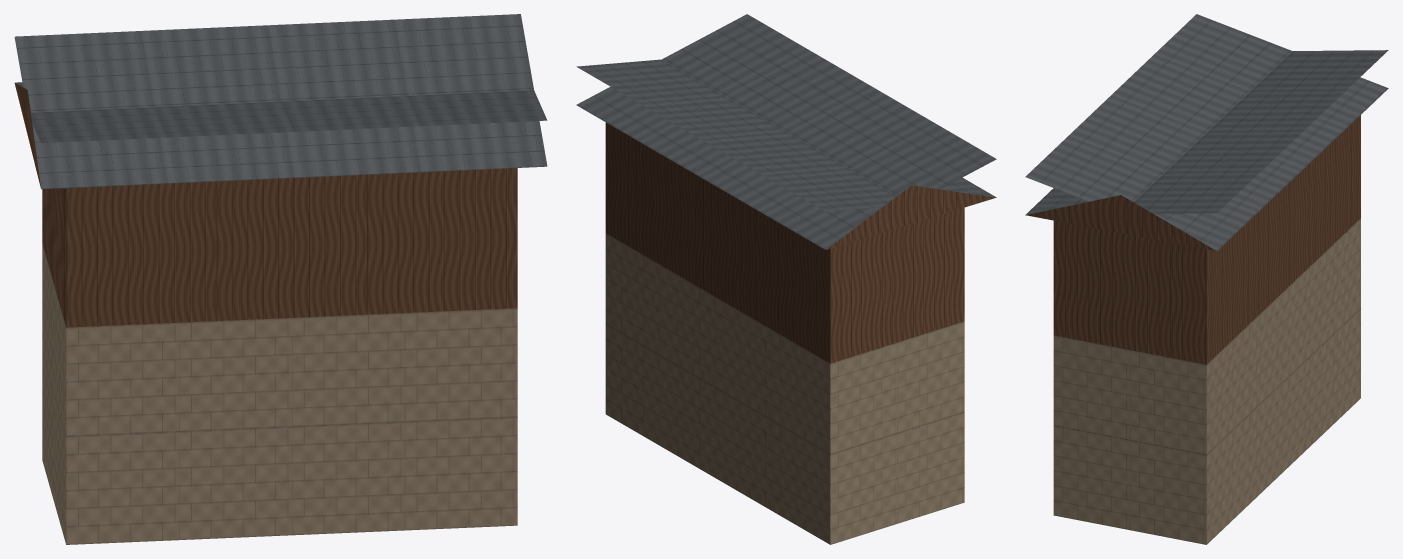
The model's file is bld_c3_19_455.gltf.
3 views of the same model, side by side, from view 1: azimuth 30°, elevation 25°; view 2: azimuth 150°, elevation 25°; view 3: azimuth 270°, elevation 25° (orthographic). The views are drawn at different scales.
Parts seen in each view (by area): view 1: bld_c3_19_455; view 2: bld_c3_19_455; view 3: bld_c3_19_455.
Boxes of the visible parts, bbox=[...] form: bld_c3_19_455: bbox=[14, 14, 547, 544]; bld_c3_19_455: bbox=[576, 14, 996, 544]; bld_c3_19_455: bbox=[1025, 14, 1388, 544].
Size of the model in its own units: 11.19 by 9 by 8.64.
Materials: 4 (4 with a texture image).
